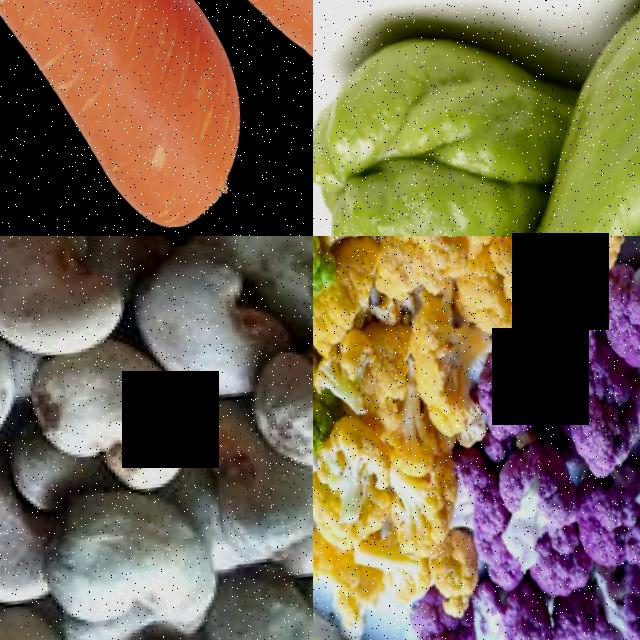carrot: (0, 0, 240, 236)
cashew: (9, 508, 215, 629), (15, 349, 183, 484), (136, 248, 267, 407), (191, 405, 313, 544), (0, 236, 99, 373), (188, 556, 311, 640), (267, 337, 313, 454), (0, 454, 27, 609)
chayote: (313, 31, 557, 236), (518, 0, 640, 236)
